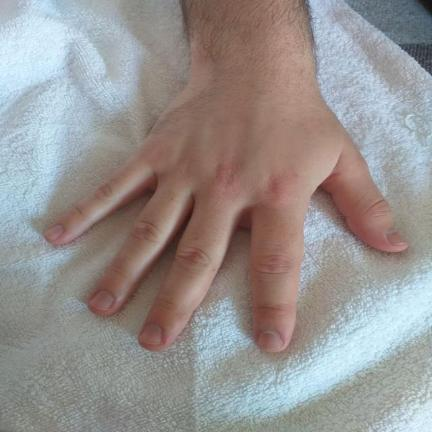Nail: (256, 330, 283, 352), (89, 289, 115, 311), (138, 323, 162, 345), (46, 224, 65, 240), (386, 231, 405, 243)
